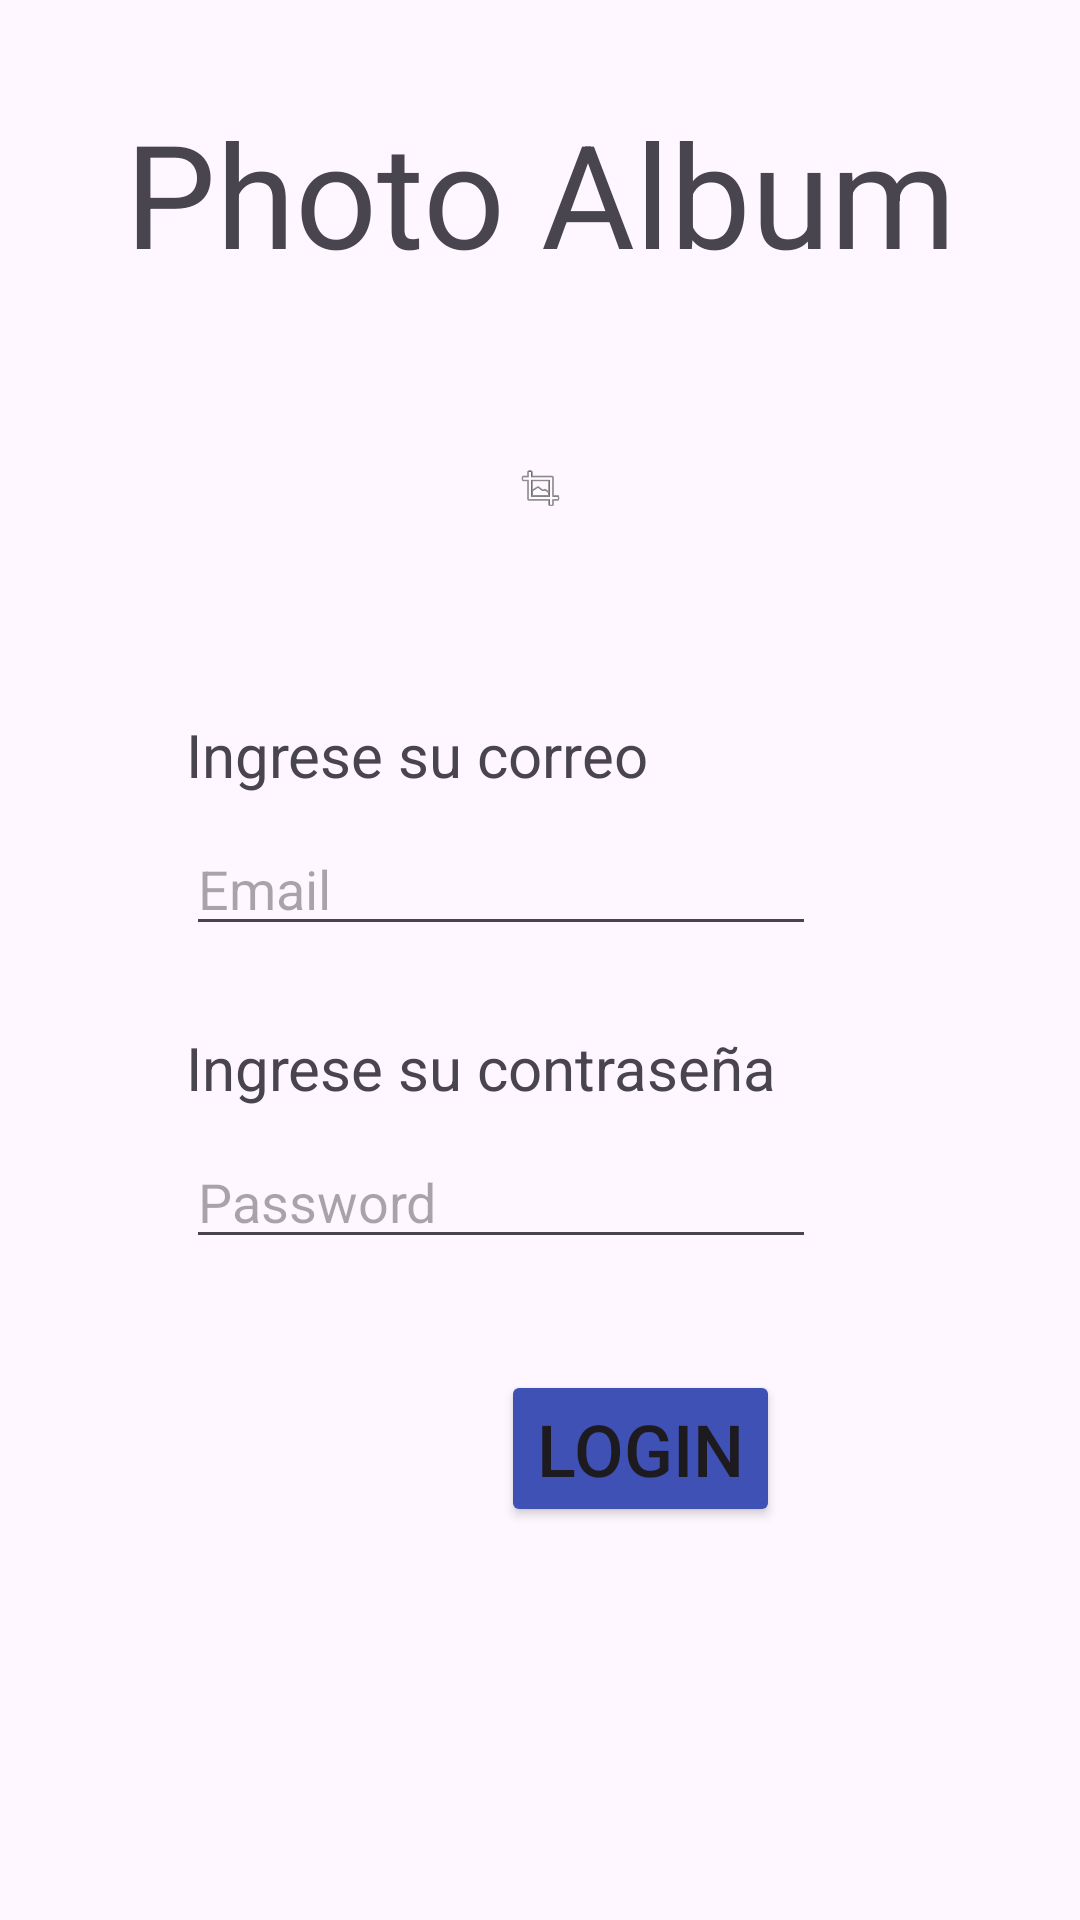

Where icons sit on this 1080px×1920px app screen, as BBox(x1, y1, x2, y2):
crop: BBox(521, 470, 560, 506)
